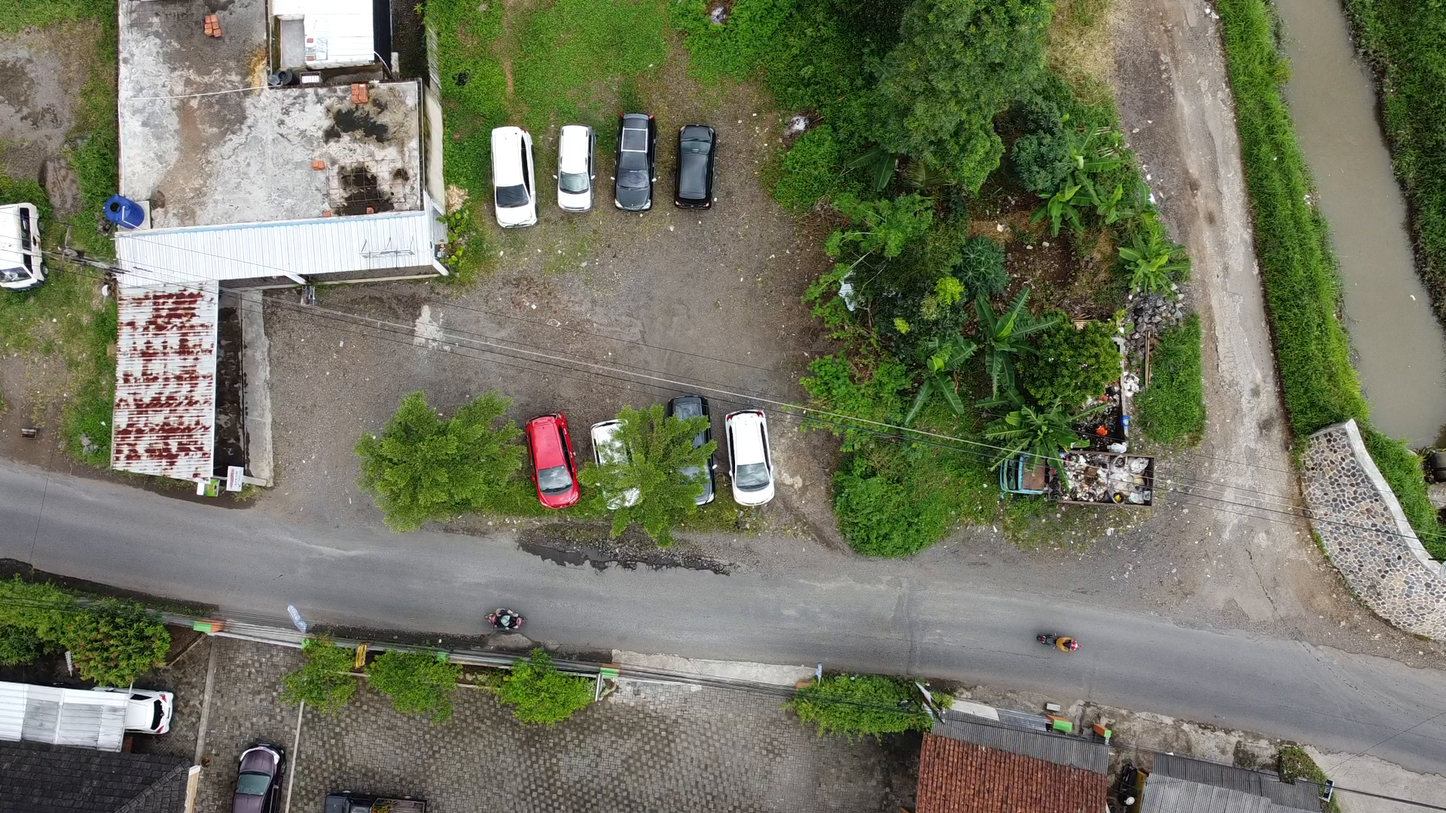mobil: (660, 383, 725, 505), (514, 407, 587, 509), (715, 403, 783, 510), (581, 413, 645, 519), (88, 673, 187, 739), (487, 121, 544, 230), (615, 99, 660, 233), (668, 108, 725, 211), (551, 111, 602, 222), (5, 196, 52, 303), (230, 737, 282, 804)
